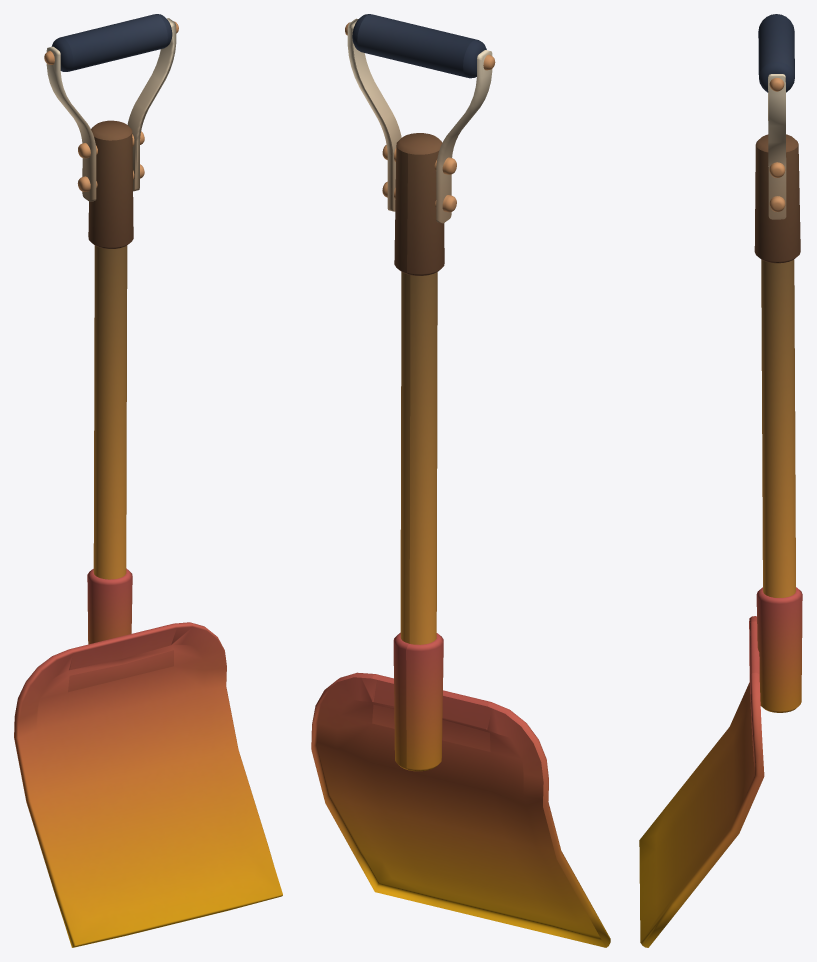
The model's file is 2shovel.fbx.
3 views of the same model, side by side, from view 1: azimuth 30°, elevation 25°; view 2: azimuth 150°, elevation 25°; view 3: azimuth 270°, elevation 25° (orthographic). The views are drawn at different scales.
Parts seen in each view (by area): view 1: shovel2; view 2: shovel2; view 3: shovel2.
Boxes of the visible parts, <box> form: shovel2: <box>14,14,282,947</box>; shovel2: <box>311,14,610,947</box>; shovel2: <box>639,14,802,947</box>.
Size of the model in its own units: 0.1378 by 0.5289 by 0.0911.
